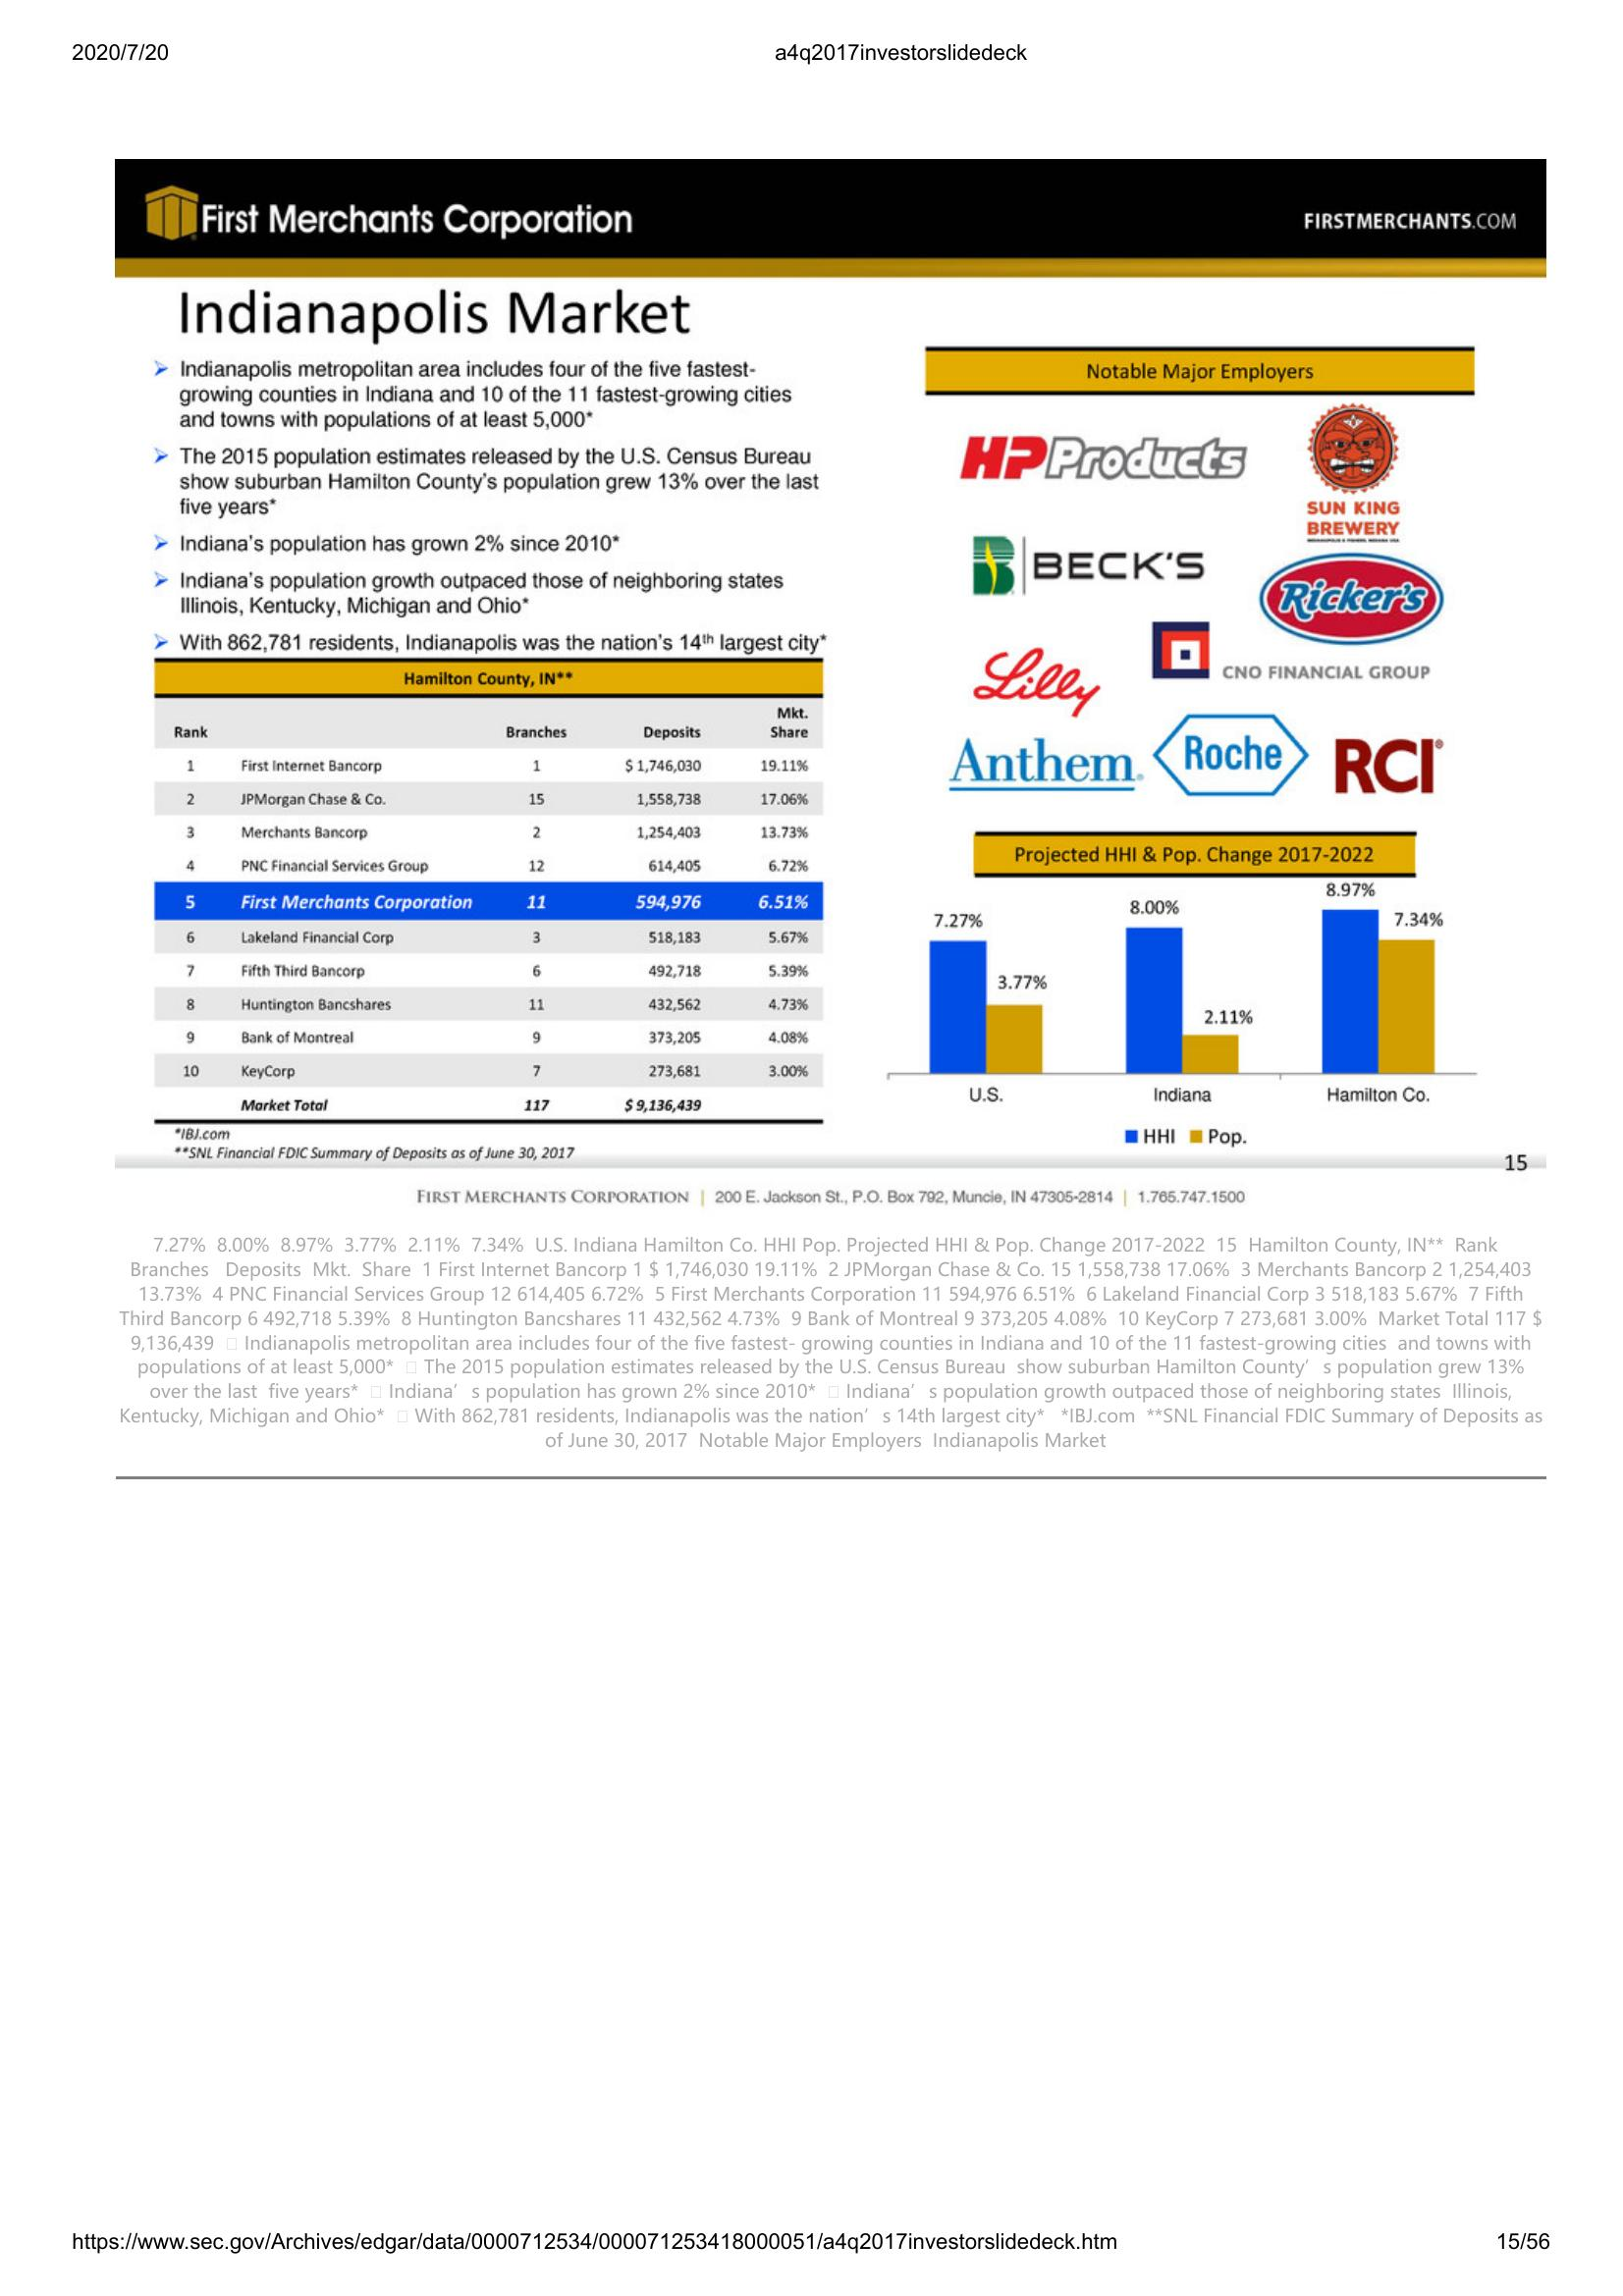table: (148, 657, 834, 1127)
